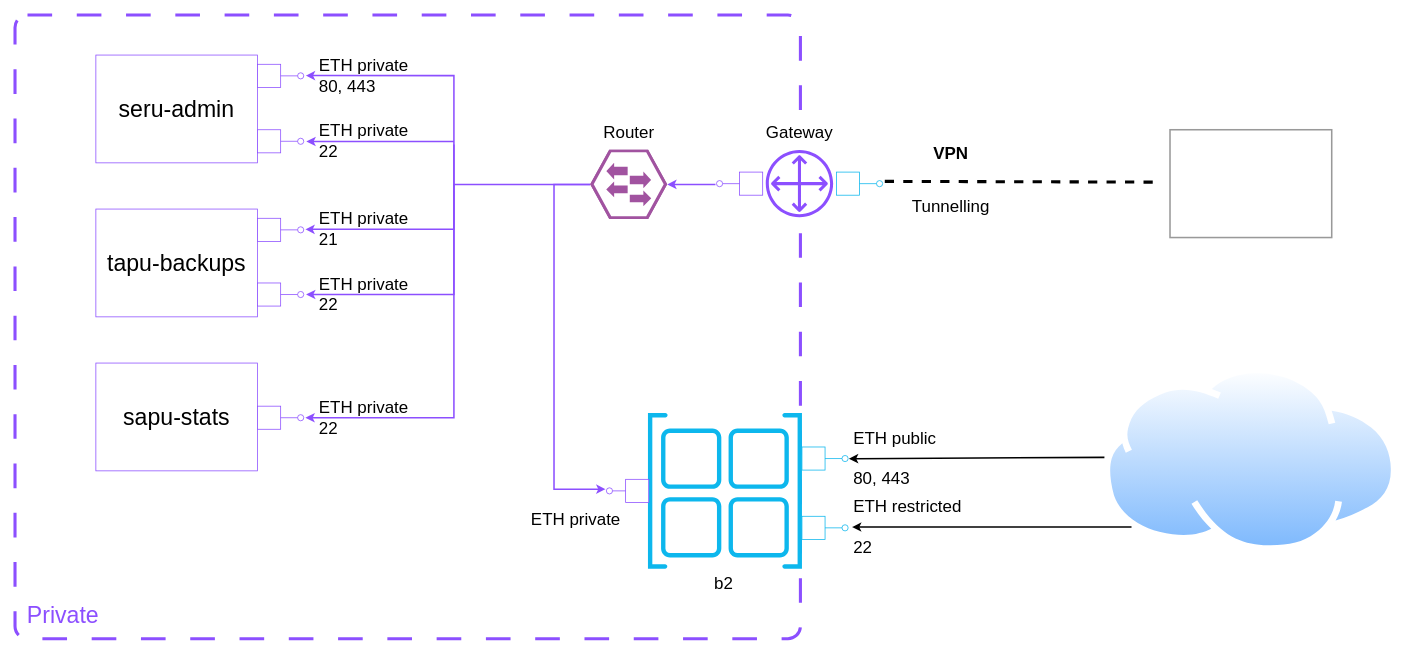
This 1411x653 diagram has some shape labels left out. The centre of each missing label's shape, as x and y in pixels:
CLOUD: pixel 1250 459
👨‍💼Admin: pixel 1250 183
